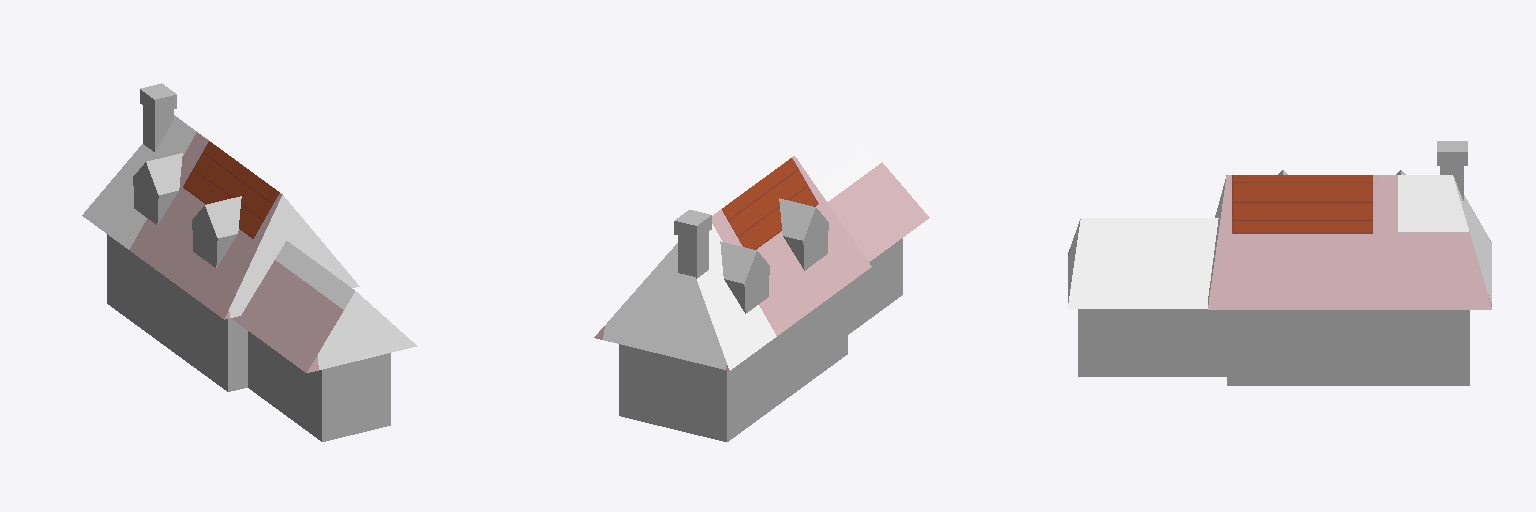
3 renders of one model, left to right at view 1: azimuth 30°, elevation 25°; view 2: azimuth 150°, elevation 25°; view 3: azimuth 270°, elevation 25°, orthographic.
Parts seen in each view (by area): view 1: tejado_Cube.003, base_cochera_Cube.006, base_sub.002_Cube.010; view 2: tejado_Cube.003, base_cochera_Cube.006, base_sub.002_Cube.010; view 3: tejado_Cube.003, base_cochera_Cube.006, base_sub.002_Cube.010.
Part boxes in pixels (x1,y1,x2,y2): tejado_Cube.003: (82, 115, 416, 372); base_cochera_Cube.006: (107, 234, 390, 441); base_sub.002_Cube.010: (133, 83, 241, 267); tejado_Cube.003: (594, 145, 929, 370); base_cochera_Cube.006: (619, 238, 902, 441); base_sub.002_Cube.010: (674, 198, 828, 313); tejado_Cube.003: (1068, 175, 1491, 309); base_cochera_Cube.006: (1078, 309, 1469, 385); base_sub.002_Cube.010: (1278, 141, 1467, 200).
Size of the model in its own units: 20.57 by 30.11 by 55.69.
Materials: 3 (1 with a texture image).